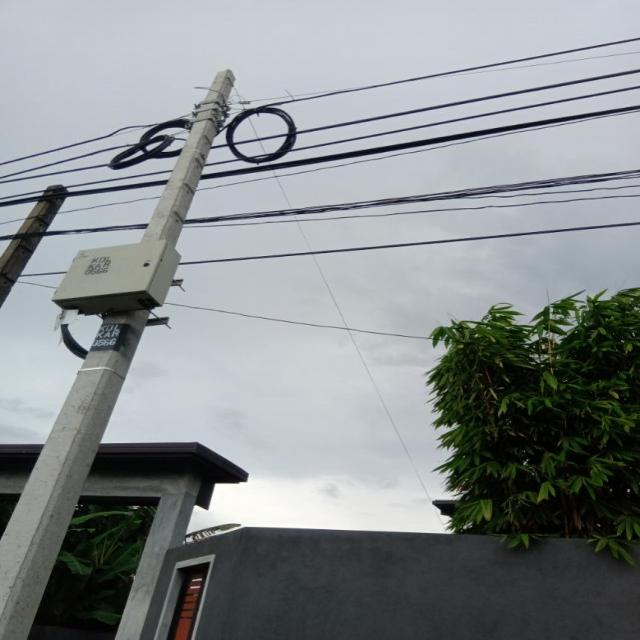light_pole: (6, 54, 238, 640)
